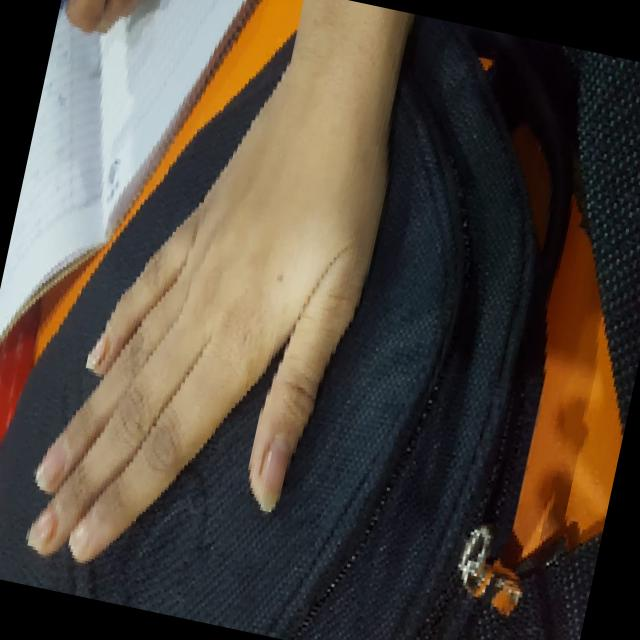Nail: (254, 435, 292, 510), (35, 445, 67, 488), (27, 506, 57, 550), (68, 515, 95, 554), (85, 334, 109, 369)
